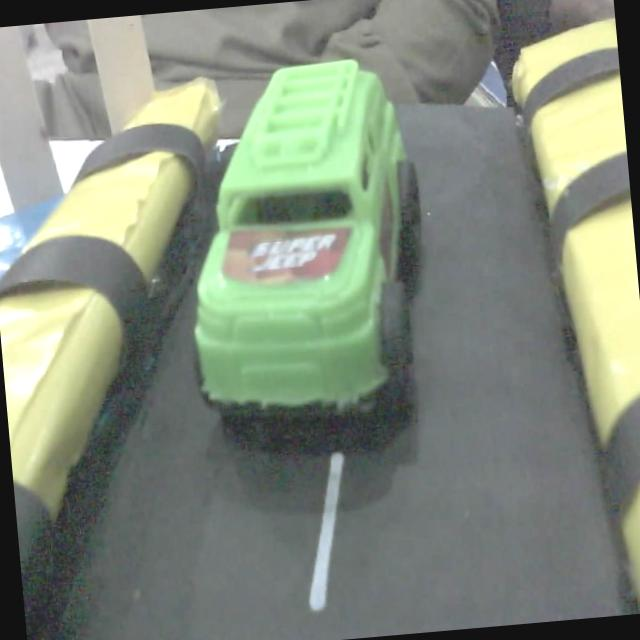OneCar: (159, 40, 458, 452)
